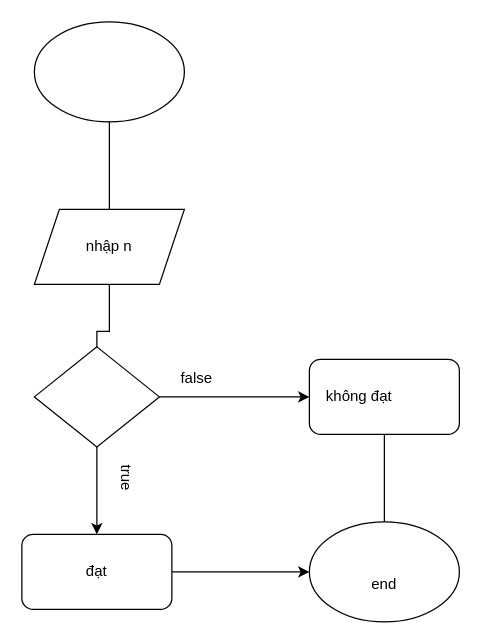
Image size: 481x644. Some labels were removed from this diagram. Here are the shapes that lost their labels. From the top down, the box of each, then its label:
(33, 21, 184, 122): start
(33, 346, 159, 447): nếu n > 5
